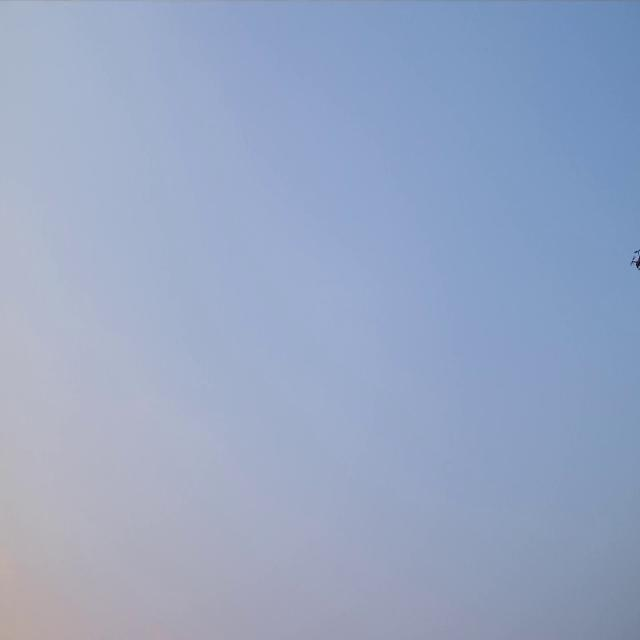UAV: (631, 250, 640, 269)
